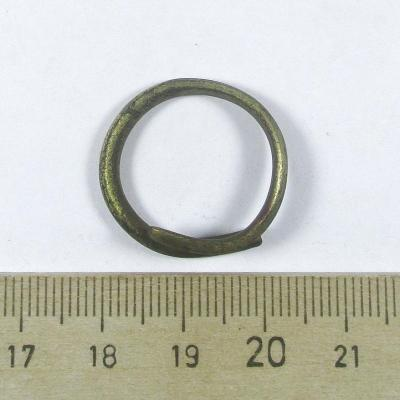archeology: (99, 78, 289, 260)
